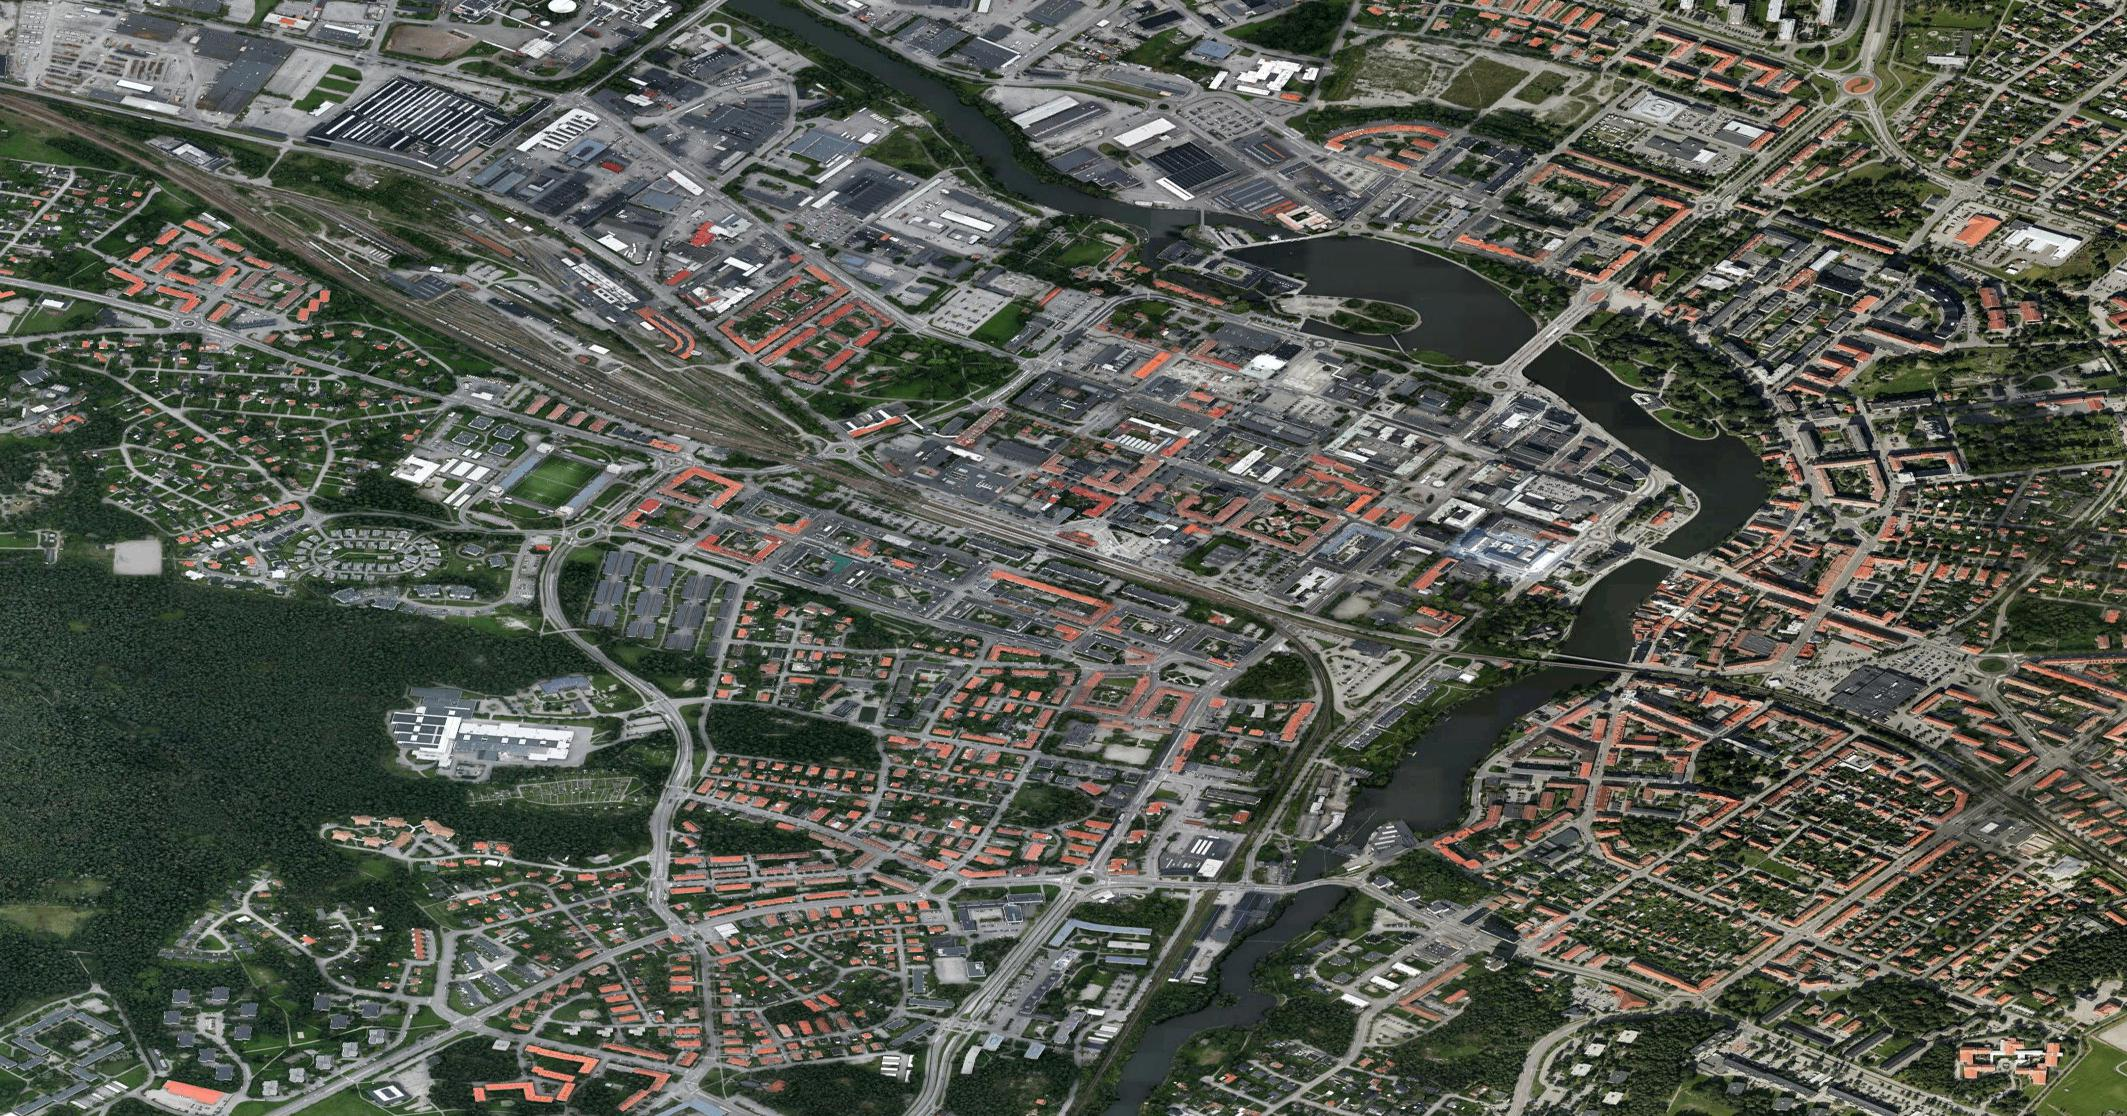bridge: (1491, 328, 1557, 376), (1539, 647, 1628, 677), (1630, 536, 1690, 571), (1291, 863, 1348, 895)
train_station: (475, 298, 670, 433)
